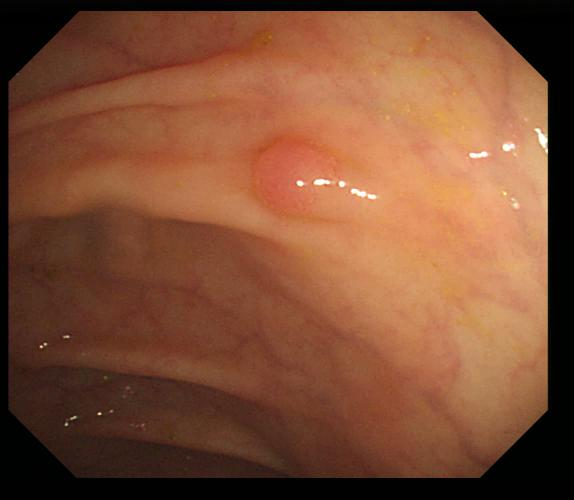polyp: (245, 131, 374, 227)
